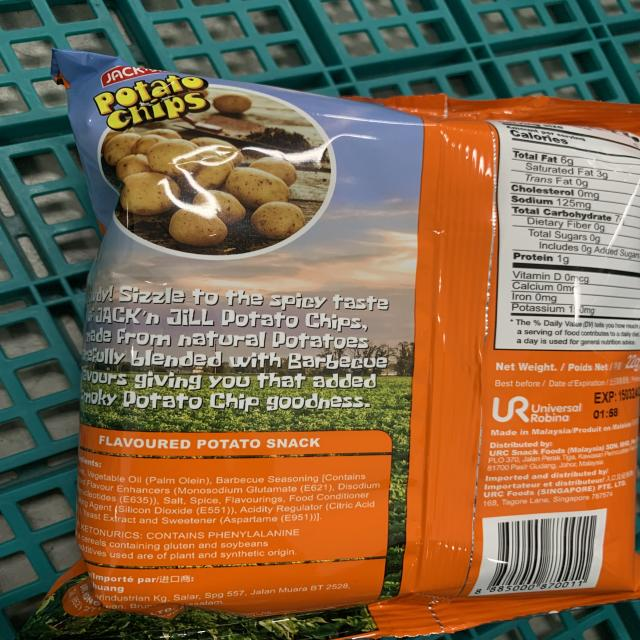object_name: (110, 91, 627, 615)
